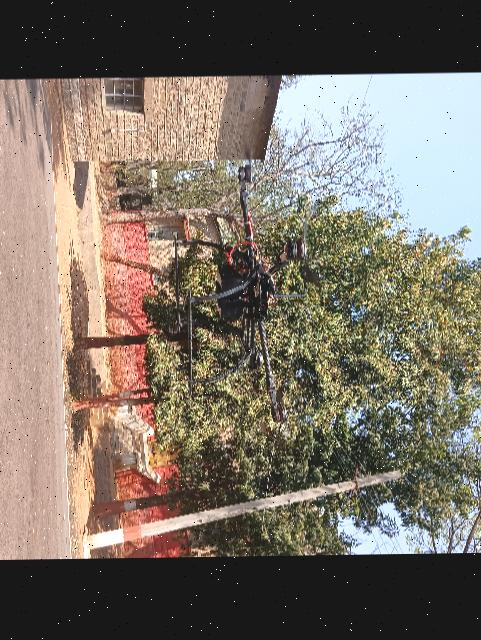drone: (161, 130, 336, 458)
